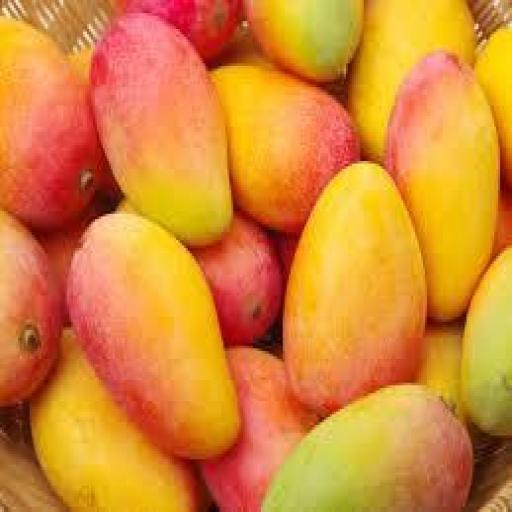mango: (68, 214, 239, 459), (283, 164, 426, 414), (91, 14, 233, 245), (386, 53, 500, 321), (0, 19, 98, 229)
